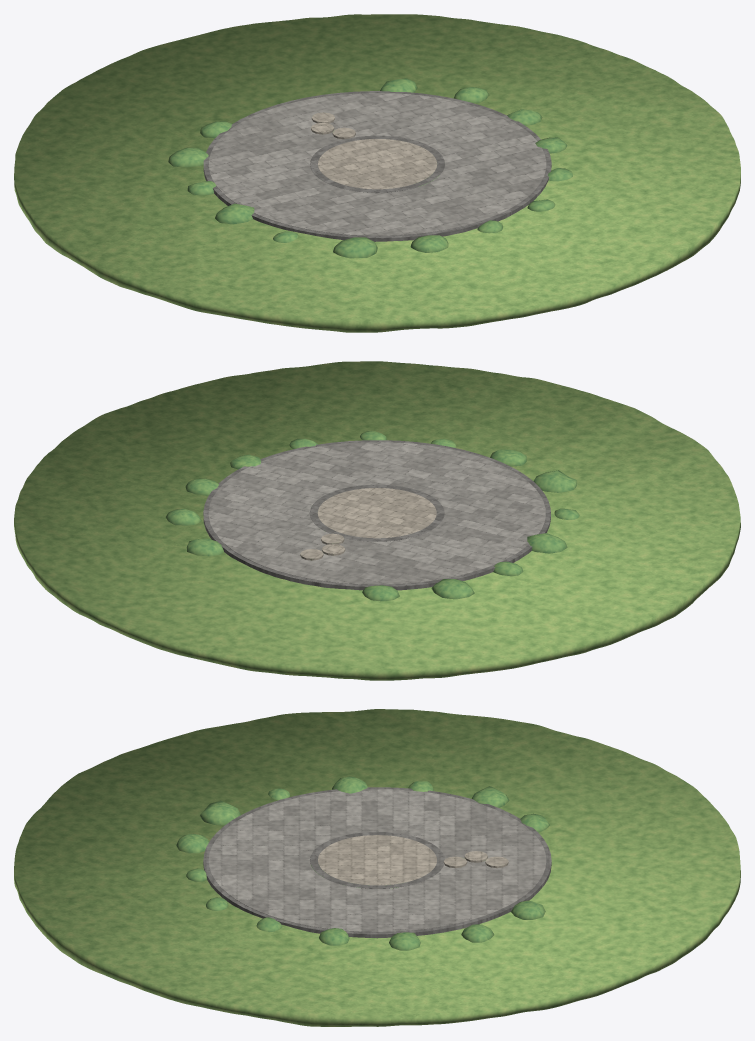
The model's file is stage_ground_overdare.fbx.
3 views of the same model, one above another, from view 1: azimuth 30°, elevation 25°; view 2: azimuth 150°, elevation 25°; view 3: azimuth 270°, elevation 25° (orthographic).
Parts seen in each view (by area): view 1: stage_ground; view 2: stage_ground; view 3: stage_ground.
Boxes of the visible parts, box(x1,y1,x2,y2) form: stage_ground: box(14, 14, 740, 332); stage_ground: box(14, 361, 740, 680); stage_ground: box(14, 709, 740, 1026).
Size of the model in its own units: 2803 by 88.13 by 2797.
1 material, 1 textured.
